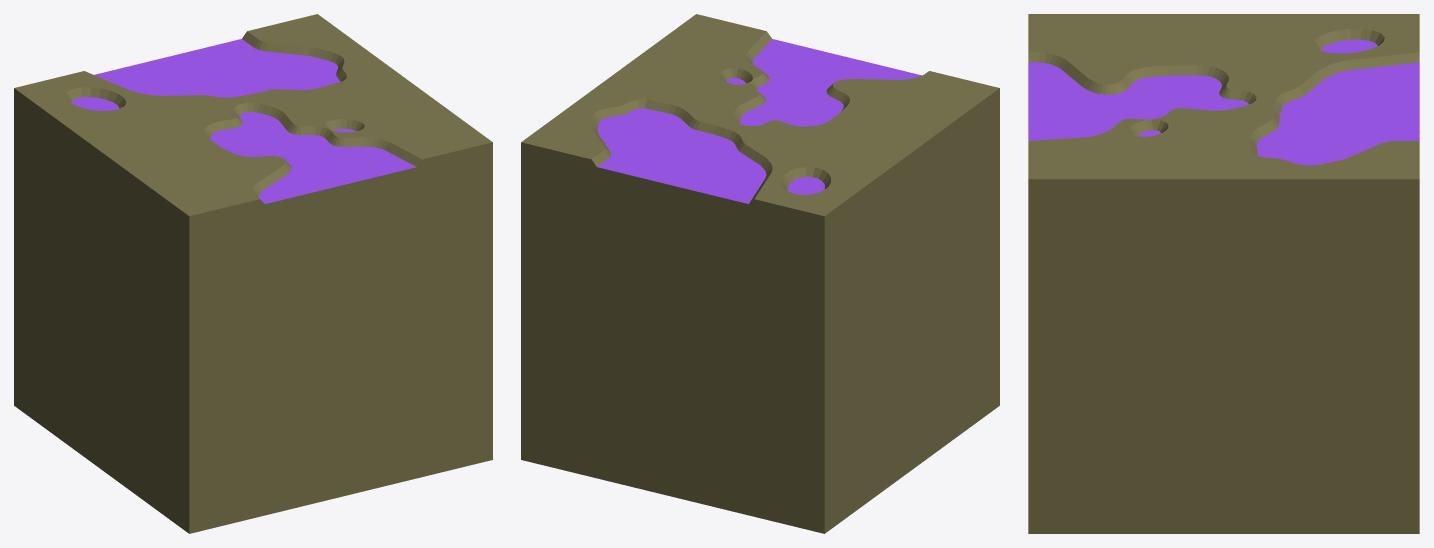
File: tile_toxic_3_01.fbx
3 views of the same model, side by side, from view 1: azimuth 30°, elevation 25°; view 2: azimuth 150°, elevation 25°; view 3: azimuth 270°, elevation 25° (orthographic). The views are drawn at different scales.
Parts seen in each view (by area): view 1: tile_toxic_3_01; view 2: tile_toxic_3_01; view 3: tile_toxic_3_01.
Part boxes in pixels (bbox=[...]): tile_toxic_3_01: bbox=[14, 14, 492, 533]; tile_toxic_3_01: bbox=[521, 14, 999, 533]; tile_toxic_3_01: bbox=[1028, 14, 1419, 533].
Size of the model in its own units: 100 by 100 by 100.
